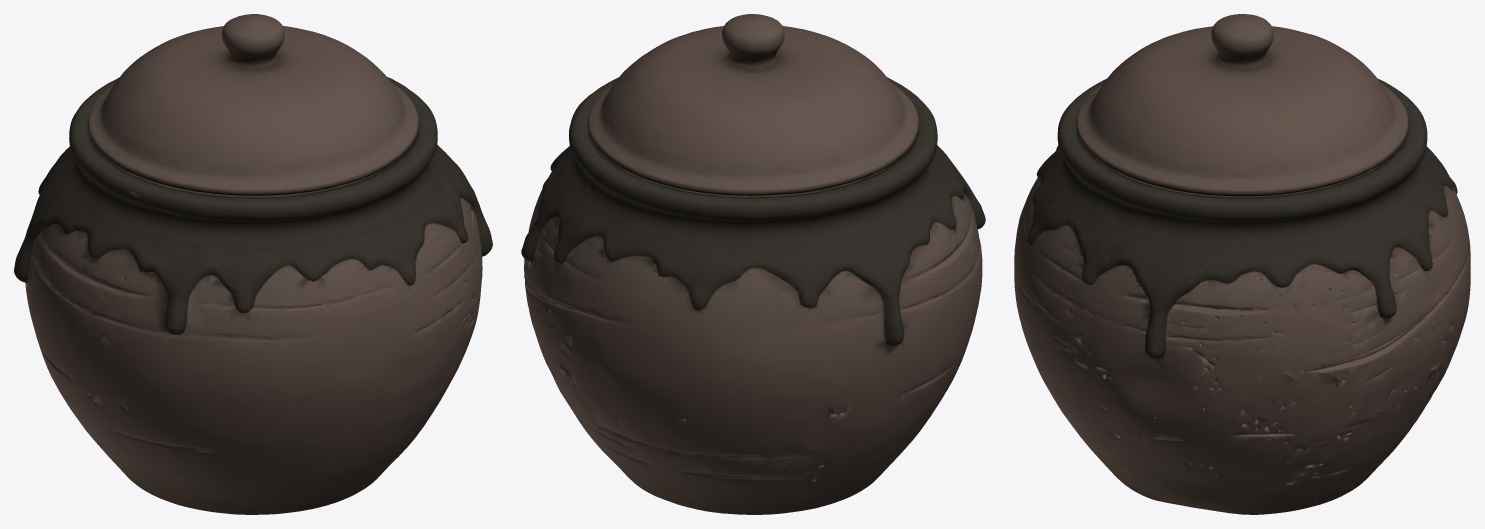
The model's file is KR_사물_s1_deco_onggi_old.glb.
3 views of the same model, side by side, from view 1: azimuth 30°, elevation 25°; view 2: azimuth 150°, elevation 25°; view 3: azimuth 270°, elevation 25° (orthographic).
Visible parts, largest first — view 1: tripo_node_bbd13a95-c207-452d-aa76-7bd8d6798a8b; view 2: tripo_node_bbd13a95-c207-452d-aa76-7bd8d6798a8b; view 3: tripo_node_bbd13a95-c207-452d-aa76-7bd8d6798a8b.
Part boxes in pixels (x1,y1,x2,y2): tripo_node_bbd13a95-c207-452d-aa76-7bd8d6798a8b: (14, 14, 492, 514); tripo_node_bbd13a95-c207-452d-aa76-7bd8d6798a8b: (521, 14, 985, 514); tripo_node_bbd13a95-c207-452d-aa76-7bd8d6798a8b: (1014, 14, 1470, 514).
Size of the model in its own units: 0.9389 by 0.9999 by 0.9354.
Materials: 1 (1 with a texture image).
